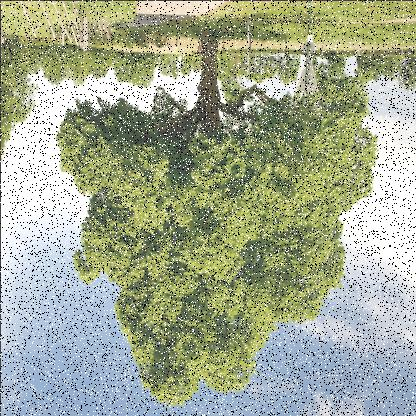Tree: (55, 28, 381, 406), (0, 31, 38, 162), (112, 50, 158, 90), (38, 39, 67, 89), (221, 53, 246, 109), (64, 39, 89, 90), (87, 44, 115, 82), (396, 48, 415, 95), (276, 51, 300, 84), (22, 40, 42, 78), (379, 48, 398, 82), (216, 51, 233, 85), (354, 56, 375, 83), (324, 58, 348, 79), (310, 56, 324, 90), (242, 54, 260, 80), (156, 52, 172, 78), (178, 52, 194, 78), (368, 54, 382, 82), (168, 52, 182, 80), (262, 51, 276, 78), (252, 56, 266, 82), (236, 56, 247, 78), (191, 54, 201, 74)
